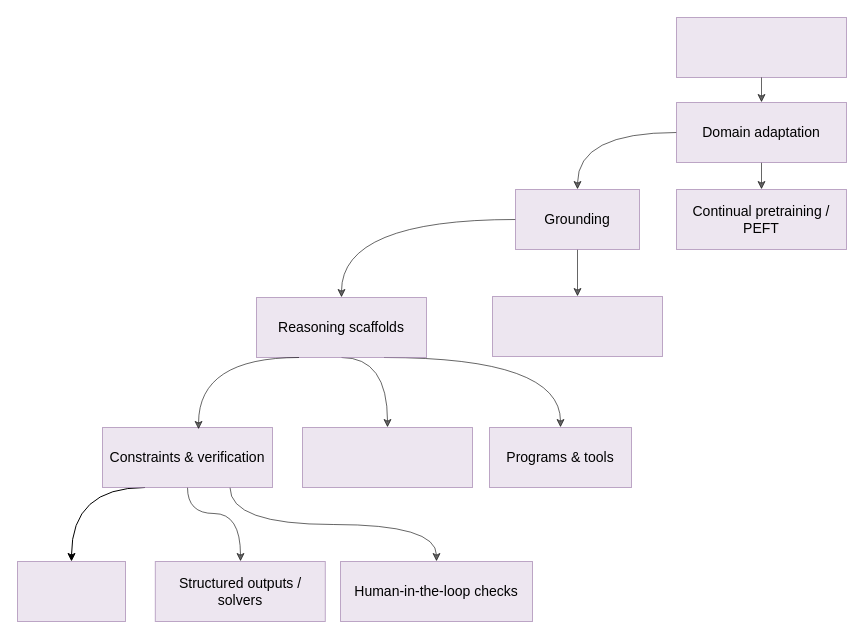
Some shapes in this 864 by 639 pixel diagram are drawn without their labels. The shapes that lost their labels are listed below. From the top down, each one's centre as x and y in pixels, then its label:
the point at 761,47: General-purpose LLM
the point at 577,326: RAG / KGs / ontologies
the point at 387,457: CoT / decomposition / planning
the point at 71,591: Domain evaluation
